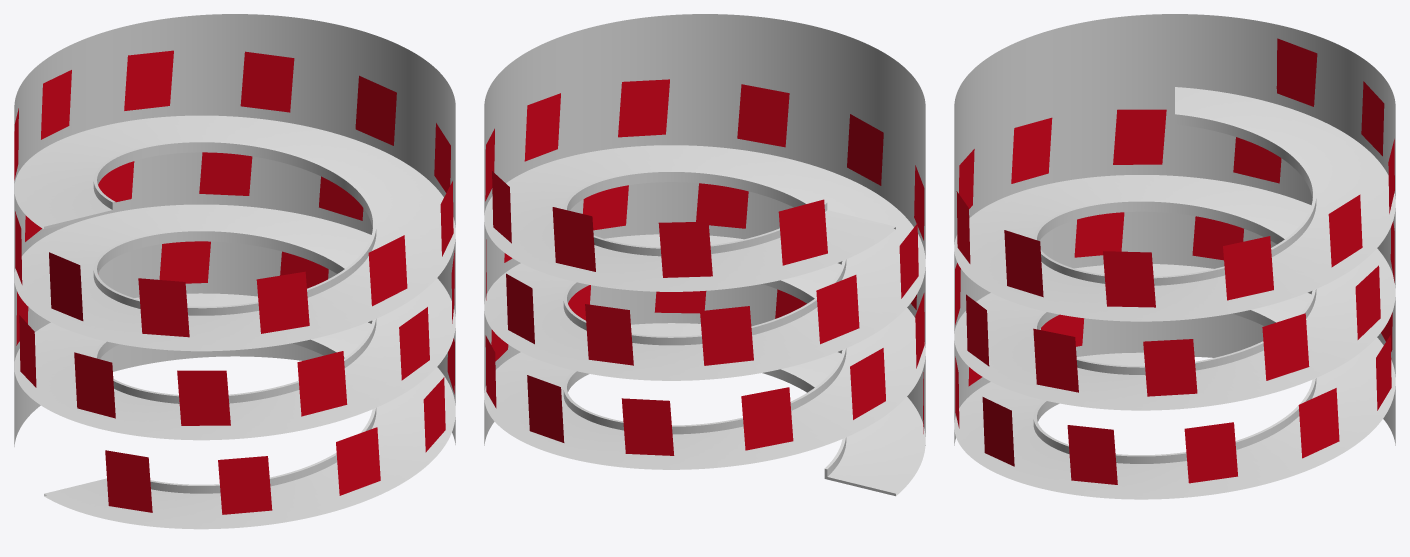
The model's file is gallary.gltf.
3 views of the same model, side by side, from view 1: azimuth 30°, elevation 25°; view 2: azimuth 150°, elevation 25°; view 3: azimuth 270°, elevation 25° (orthographic).
Visible parts, largest first — view 1: Plane.001, Circle, Images.032, Images.021, Images.004, Images.009, Images.010, Images.003, Images.020, Images.033, Images.031, Images.022 (+14 smaller); view 2: Plane.001, Circle, Images.002, Images.013, Images.025, Images.008, Images.007, Images.024, Images.001, Images.014, Images.003, Images.012 (+15 smaller); view 3: Plane.001, Circle, Images.017, Images.011, Images.028, Images.006, Images.005, Images.029, Images.016, Images.018, Images.001, Images.010 (+14 smaller).
Boxes of the visible parts, bbox=[...] form: Plane.001: bbox=[14, 115, 455, 529]; Circle: bbox=[14, 14, 455, 446]; Images.032: bbox=[218, 456, 272, 514]; Images.021: bbox=[177, 370, 230, 425]; Images.004: bbox=[240, 51, 294, 112]; Images.009: bbox=[256, 271, 309, 333]; Images.010: bbox=[138, 278, 189, 337]; Images.003: bbox=[124, 50, 173, 110]; Images.020: bbox=[297, 351, 347, 416]; Images.033: bbox=[105, 450, 152, 512]; Images.031: bbox=[336, 427, 380, 495]; Images.022: bbox=[74, 352, 115, 418]; Plane.001: bbox=[484, 145, 925, 496]; Circle: bbox=[484, 14, 925, 445]; Images.002: bbox=[658, 221, 712, 277]; Images.013: bbox=[700, 306, 753, 365]; Images.025: bbox=[621, 398, 674, 455]; Images.008: bbox=[737, 84, 789, 147]; Images.007: bbox=[618, 79, 669, 137]; Images.024: bbox=[741, 387, 793, 450]; Images.001: bbox=[778, 199, 827, 265]; Images.014: bbox=[585, 304, 633, 365]; Images.003: bbox=[552, 207, 595, 271]; Images.012: bbox=[816, 275, 859, 344]; Plane.001: bbox=[954, 87, 1395, 499]; Circle: bbox=[954, 14, 1395, 445]; Images.017: bbox=[1143, 339, 1197, 396]; Images.011: bbox=[1113, 109, 1166, 164]; Images.028: bbox=[1184, 422, 1237, 483]; Images.006: bbox=[1103, 251, 1155, 307]; Images.005: bbox=[1223, 236, 1273, 300]; Images.029: bbox=[1067, 425, 1117, 484]; Images.016: bbox=[1262, 313, 1309, 380]; Images.018: bbox=[1033, 328, 1078, 392]; Images.001: bbox=[1276, 38, 1317, 106]; Images.010: bbox=[1011, 117, 1052, 183].
Size of the model in its own units: 180 by 154 by 180.
